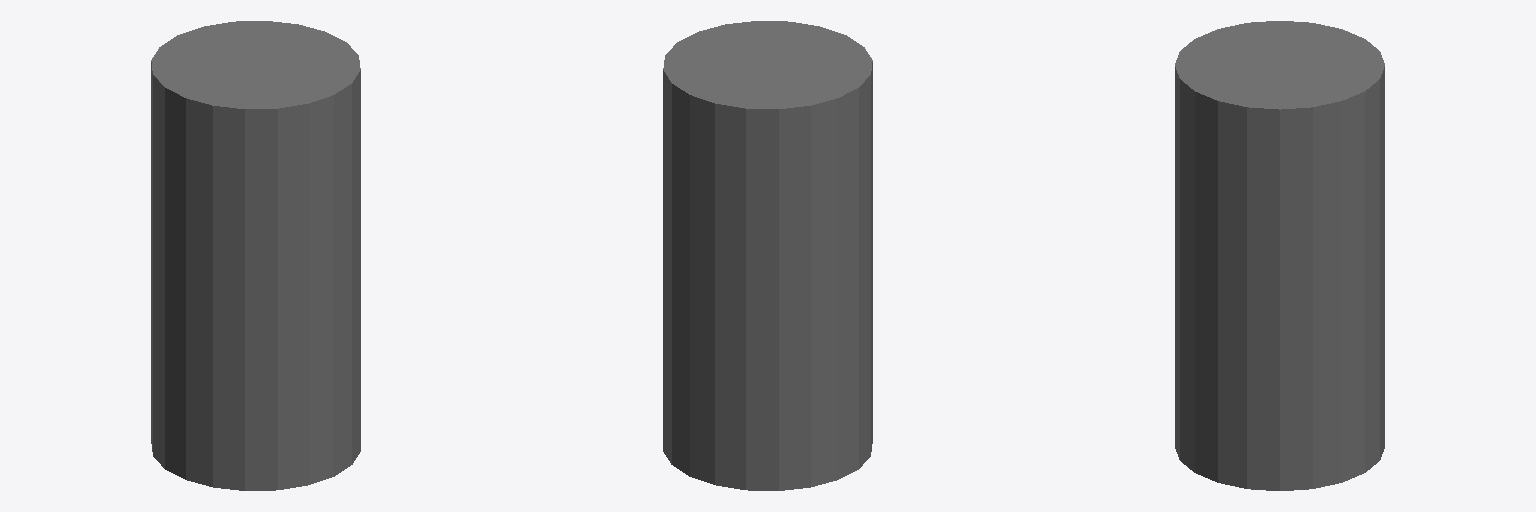
The model's file is wallplaque.obj.
3 views of the same model, side by side, from view 1: azimuth 30°, elevation 25°; view 2: azimuth 150°, elevation 25°; view 3: azimuth 270°, elevation 25° (orthographic).
Parts seen in each view (by area): view 1: pCylinder1; view 2: pCylinder1; view 3: pCylinder1.
Boxes of the visible parts, <box> form: pCylinder1: <box>151,21,360,490</box>; pCylinder1: <box>663,21,872,490</box>; pCylinder1: <box>1175,21,1384,490</box>.
Bounding box in the file's own units: 1 × 2 × 1.